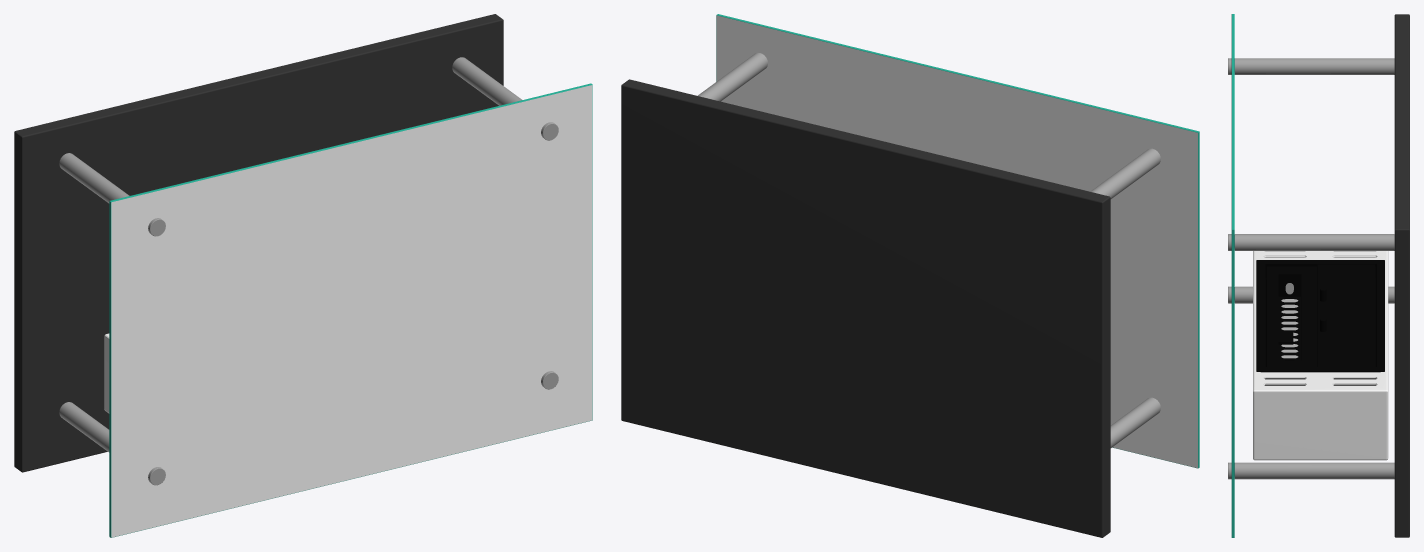
The model's file is bio-10-008_2.gltf.
The picture shows the model from 3 angles, left to right: view 1: azimuth 30°, elevation 25°; view 2: azimuth 150°, elevation 25°; view 3: azimuth 270°, elevation 25°; orthographic projection. The views are drawn at different scales.
Visible parts, largest first — view 1: Node #10, Node #14, Node #8, Node #11, Node #12, Node #9; view 2: Node #14, Node #10, Node #8, Node #11, Node #12, Node #9; view 3: Node #13, Node #2, Node #14, Node #4, Node #7, Node #11, Node #12, Node #8, Node #6, Node #9.
Boxes of the visible parts, box(x1,y1,x2,y2) form: Node #10: box(111, 85, 592, 537); Node #14: box(14, 14, 503, 472); Node #8: box(109, 83, 592, 537); Node #11: box(59, 153, 165, 236); Node #12: box(452, 57, 558, 140); Node #9: box(59, 402, 165, 485); Node #14: box(621, 79, 1110, 537); Node #10: box(716, 15, 1197, 468); Node #8: box(716, 14, 1199, 468); Node #11: box(1090, 148, 1160, 198); Node #12: box(697, 52, 767, 101); Node #9: box(1110, 397, 1160, 447); Node #13: box(1253, 251, 1388, 460); Node #2: box(1256, 260, 1384, 385); Node #14: box(1394, 14, 1409, 537); Node #4: box(1317, 264, 1374, 366); Node #7: box(1228, 462, 1394, 479); Node #11: box(1228, 58, 1394, 74); Node #12: box(1228, 234, 1394, 250); Node #8: box(1231, 14, 1234, 537); Node #6: box(1281, 283, 1298, 358); Node #9: box(1228, 286, 1394, 303).
Size of the model in its own units: 0.6 by 0.4 by 0.2137.
